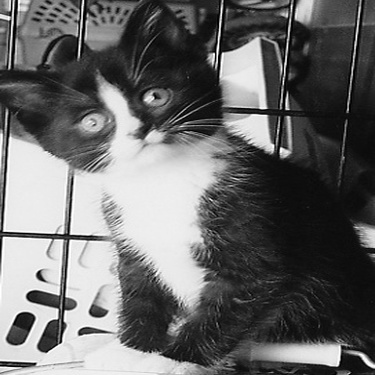cat: (9, 6, 364, 363)
